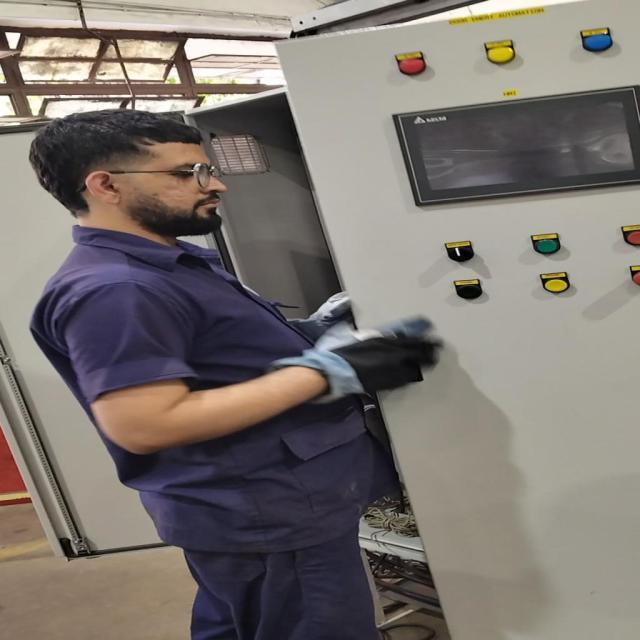Gloves-Detection: (272, 313, 460, 400)
